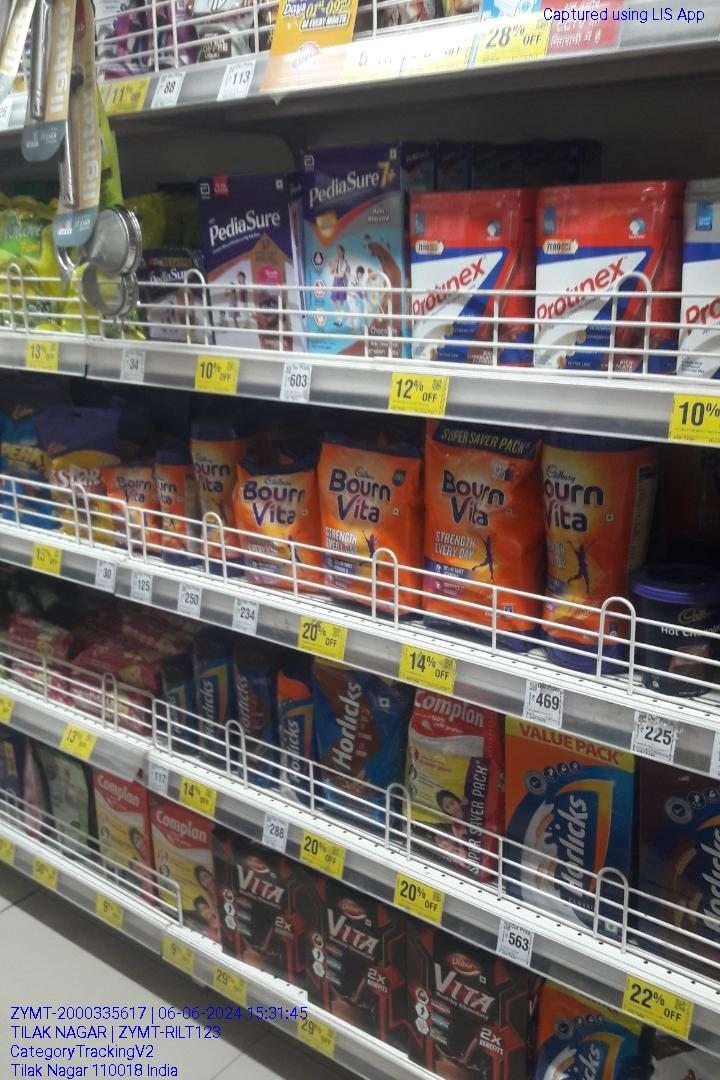BOURN_VITA_1_KG_JAR: (543, 437, 619, 667)
BOURN_VITA_1_KG_POUCH: (425, 424, 538, 642)
BOURN_VITA_500_G_POUCH: (233, 462, 318, 587)
BOURN_VITA_750_G_POUCH: (322, 444, 421, 612)
PEDIASURE_CHOCOLATE_500_G_PACK: (204, 172, 293, 350)
PROTINEX_CHOCOLATE_400_G_JAR: (535, 180, 671, 371), (411, 195, 524, 367)
